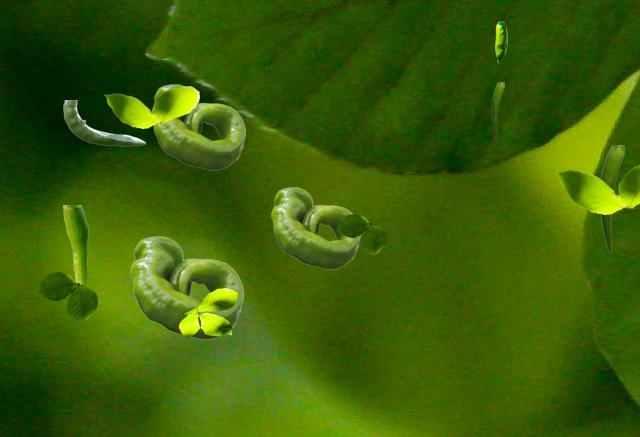green_chili: (130, 236, 242, 338), (151, 84, 244, 169), (271, 187, 359, 268), (63, 100, 144, 145), (600, 145, 623, 252), (63, 205, 89, 286), (491, 82, 503, 141), (495, 21, 506, 62)
